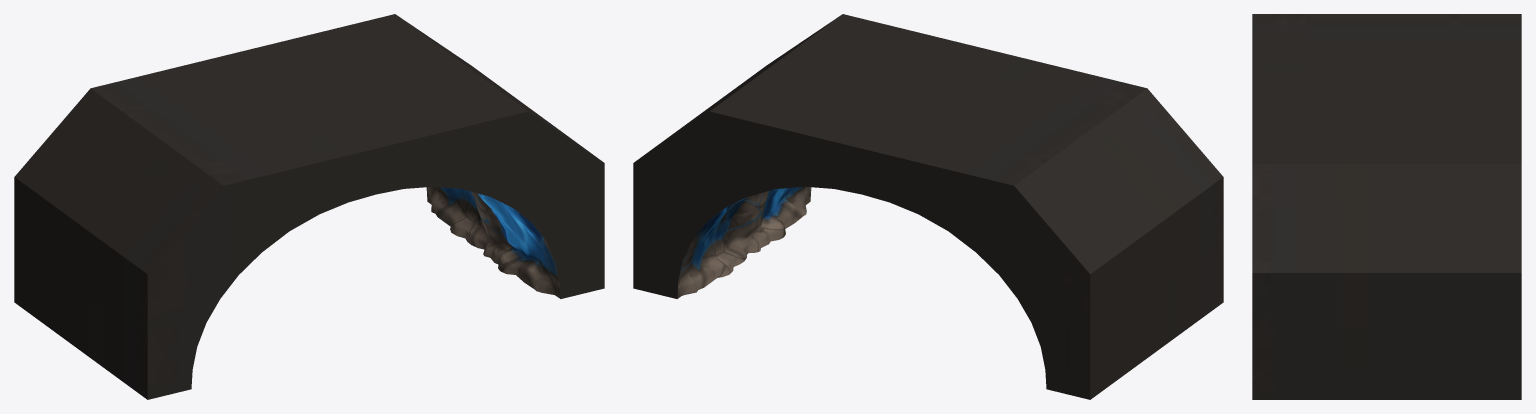
The model's file is SM_IceCave_Segment_A.glb.
3 renders of one model, left to right at view 1: azimuth 30°, elevation 25°; view 2: azimuth 150°, elevation 25°; view 3: azimuth 270°, elevation 25°, orthographic.
Parts seen in each view (by area): view 1: SM_IceCave_Segment_A; view 2: SM_IceCave_Segment_A; view 3: SM_IceCave_Segment_A.
Boxes of the visible parts, x1,y1,x2,y2 form: SM_IceCave_Segment_A: (14, 14, 604, 399); SM_IceCave_Segment_A: (633, 14, 1223, 399); SM_IceCave_Segment_A: (1252, 14, 1521, 399).
Size of the model in its own units: 19.8 by 8.1 by 10.
1 material, 1 textured.
